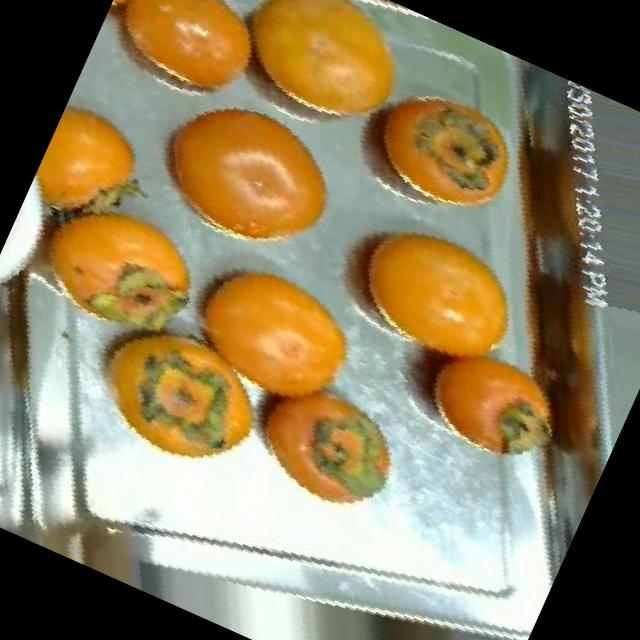Fruit: (113, 59, 374, 294), (138, 220, 392, 443), (308, 182, 558, 406), (42, 294, 296, 510), (0, 157, 235, 376), (322, 46, 550, 250), (212, 349, 432, 545), (189, 0, 443, 164), (382, 308, 582, 496), (81, 0, 297, 140), (20, 88, 168, 248)
